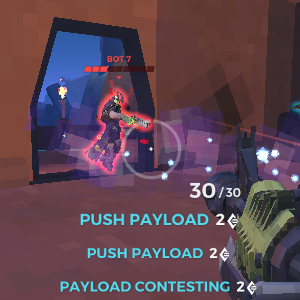model: (87, 83, 143, 181)
